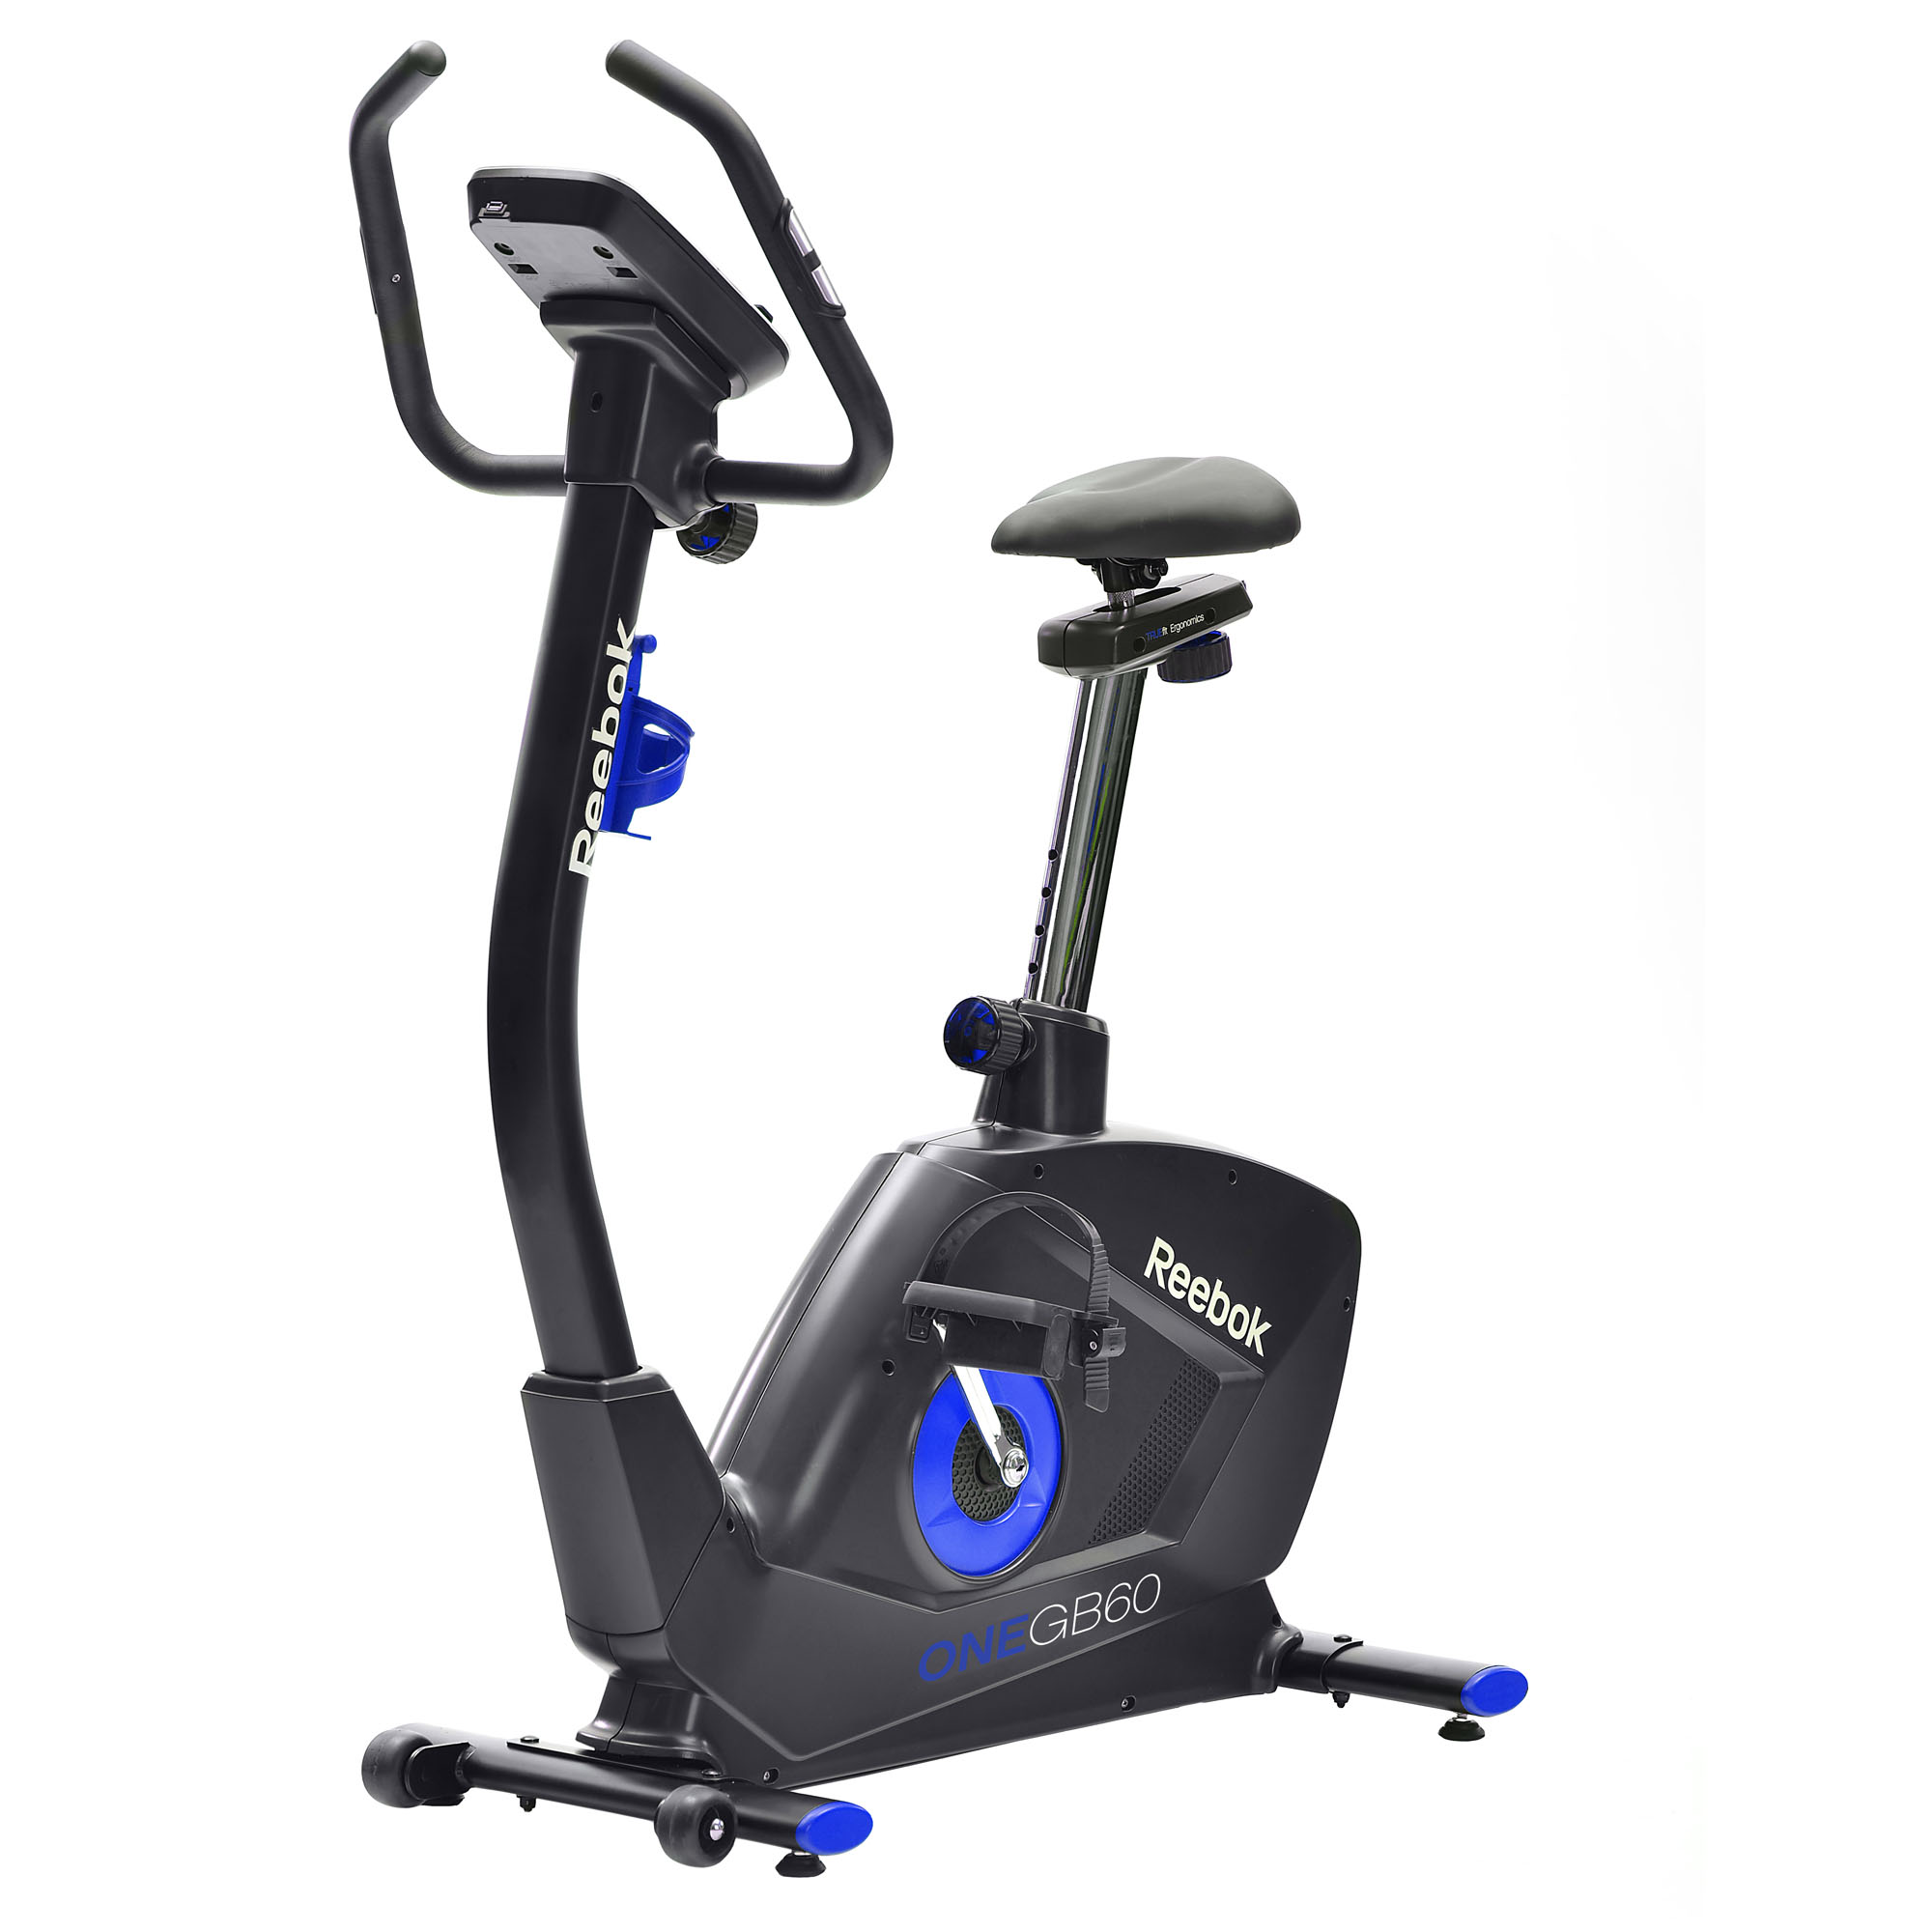gym_bike: (265, 51, 1550, 1867)
